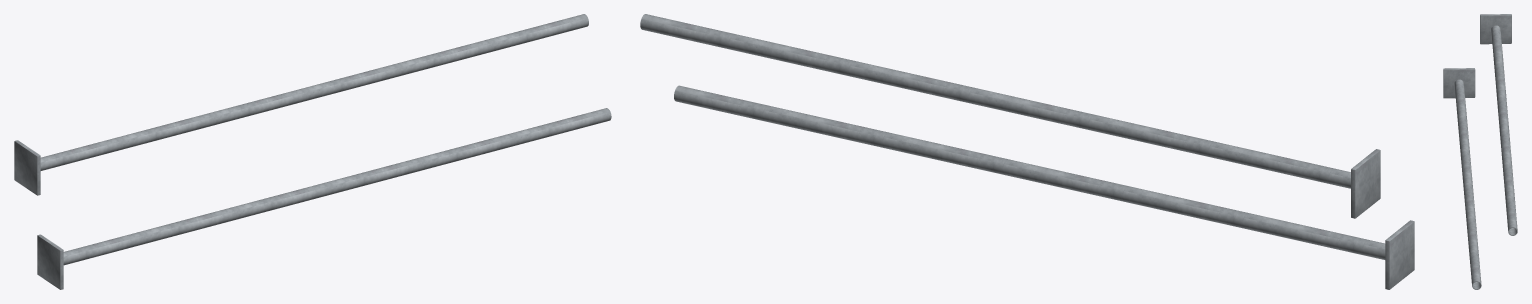
Rendered from ELE-SPD-005_anim.glb.
3 renders of one model, left to right at view 1: azimuth 30°, elevation 25°; view 2: azimuth 150°, elevation 25°; view 3: azimuth 270°, elevation 25°, orthographic. The views are drawn at different scales.
Parts seen in each view (by area): view 1: ELE-SPD-005_anim1, ELE-SPD-005_anim0; view 2: ELE-SPD-005_anim0, ELE-SPD-005_anim1; view 3: ELE-SPD-005_anim0, ELE-SPD-005_anim1.
Boxes of the visible parts, <box> form: ELE-SPD-005_anim1: <box>14,14,588,195</box>; ELE-SPD-005_anim0: <box>37,108,611,289</box>; ELE-SPD-005_anim0: <box>674,85,1414,289</box>; ELE-SPD-005_anim1: <box>640,14,1380,218</box>; ELE-SPD-005_anim0: <box>1443,68,1481,289</box>; ELE-SPD-005_anim1: <box>1480,14,1517,235</box>.
Bounding box in the file's own units: 3.03 × 0.58 × 0.4676.
Materials: 1 (1 with a texture image).
